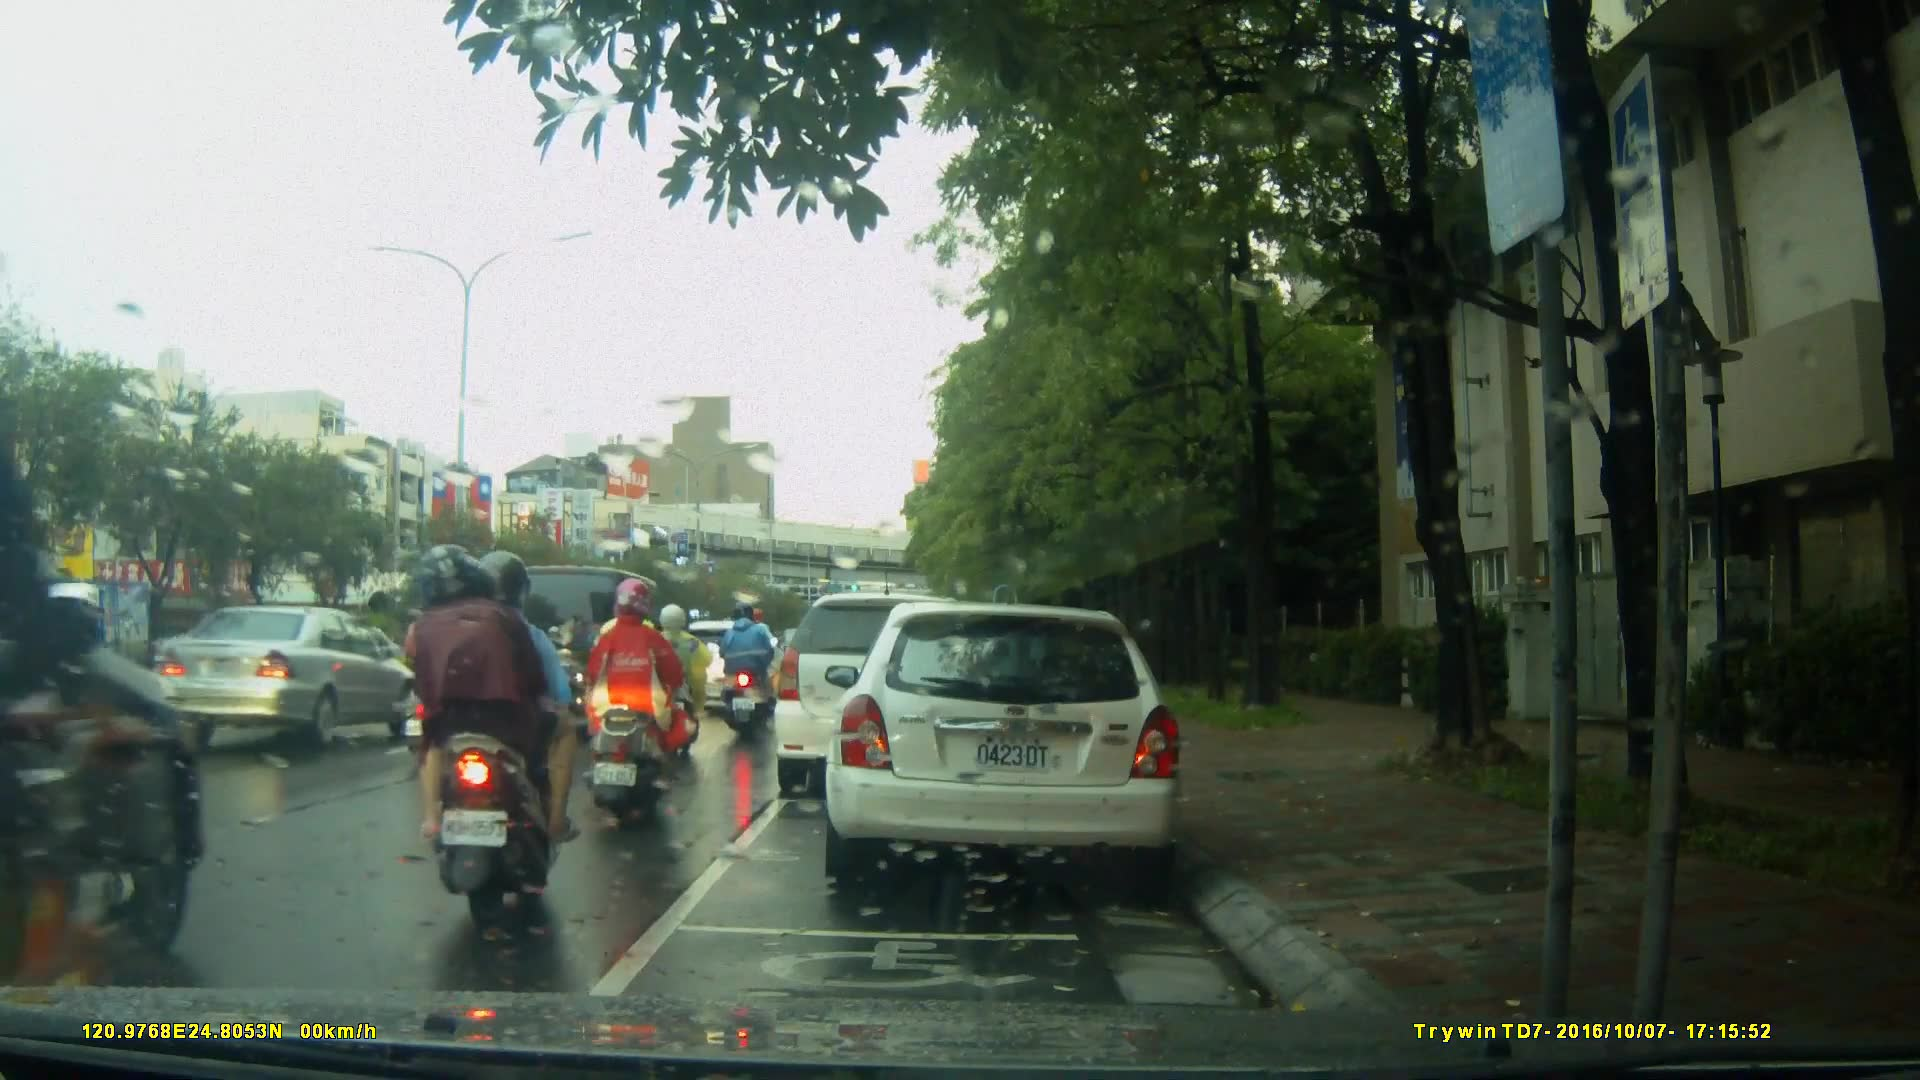rider: (413, 545, 577, 922), (593, 580, 693, 829), (596, 587, 686, 788), (398, 587, 482, 753), (634, 596, 713, 756), (721, 594, 774, 737)
vehicle: (822, 604, 1188, 883), (774, 595, 995, 802), (139, 604, 442, 747), (485, 565, 663, 722)
